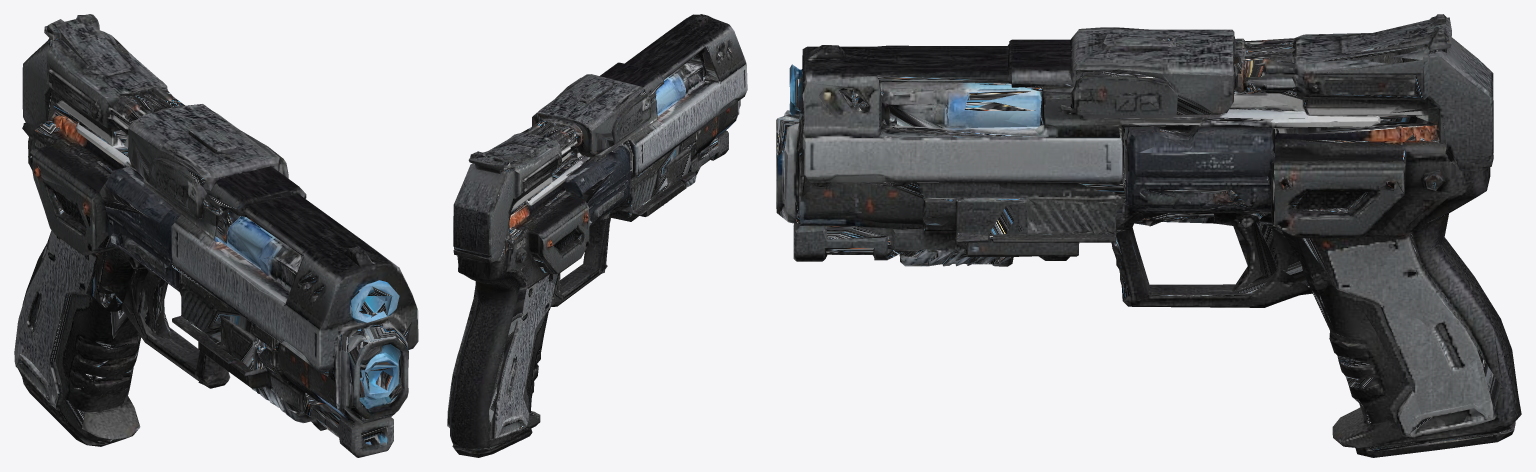
File: ornate_pistol.glb
The picture shows the model from 3 angles, left to right: view 1: azimuth 30°, elevation 25°; view 2: azimuth 150°, elevation 25°; view 3: azimuth 270°, elevation 25°; orthographic projection. The views are drawn at different scales.
Parts seen in each view (by area): view 1: mesh_node, mesh_node_lod; view 2: mesh_node, mesh_node_lod; view 3: mesh_node, mesh_node_lod.
Boxes of the visible parts, x1,y1,x2,y2 form: mesh_node: (14,14,418,457); mesh_node_lod: (16,16,412,444); mesh_node: (447,14,747,457); mesh_node_lod: (447,19,744,451); mesh_node: (776,14,1521,457); mesh_node_lod: (776,15,1513,456).
Bounding box in the file's own units: 0.0598 × 0.1895 × 0.3.
Materials: 1 (1 with a texture image).
